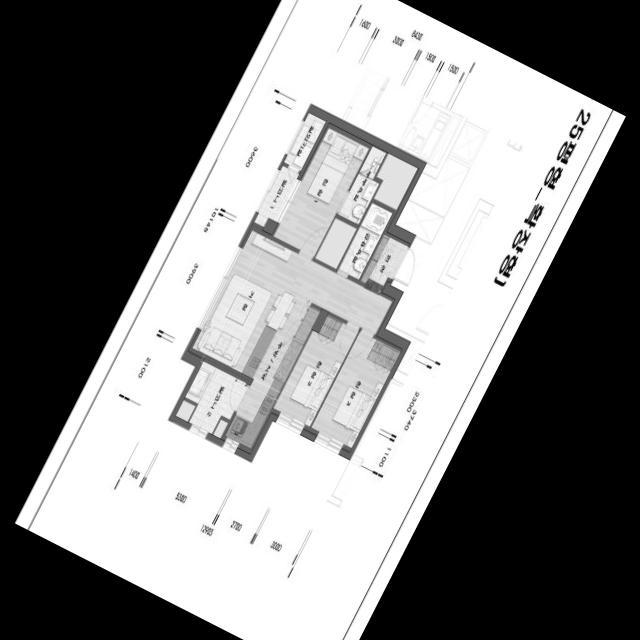background: (14, 0, 626, 640)
space_balconi: (185, 361, 247, 434), (254, 166, 299, 227)
space_bedroom: (271, 123, 371, 256), (308, 332, 402, 453), (269, 315, 358, 431)
space_front: (358, 230, 409, 295)
space_kitchen: (221, 288, 320, 454)
space_living_room: (188, 226, 394, 376)
space_other: (374, 153, 418, 210), (284, 113, 326, 171), (315, 218, 357, 269), (175, 400, 195, 421), (213, 419, 228, 438)
space_toilet: (337, 201, 393, 280), (337, 145, 387, 225)
